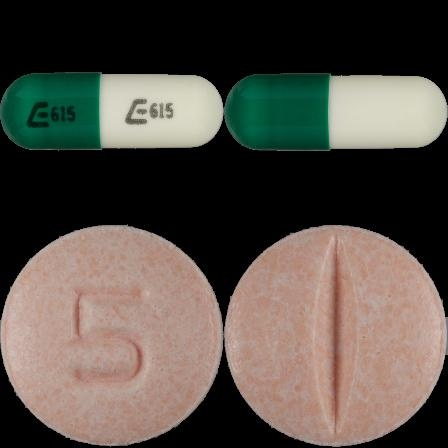58118-0615: (0, 0, 224, 224)
